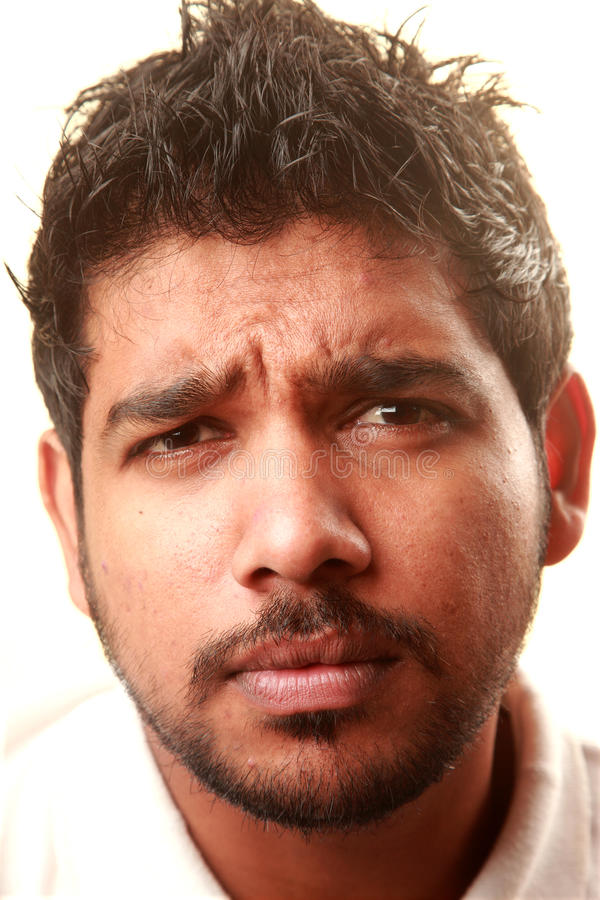confused: (71, 313, 508, 828)
